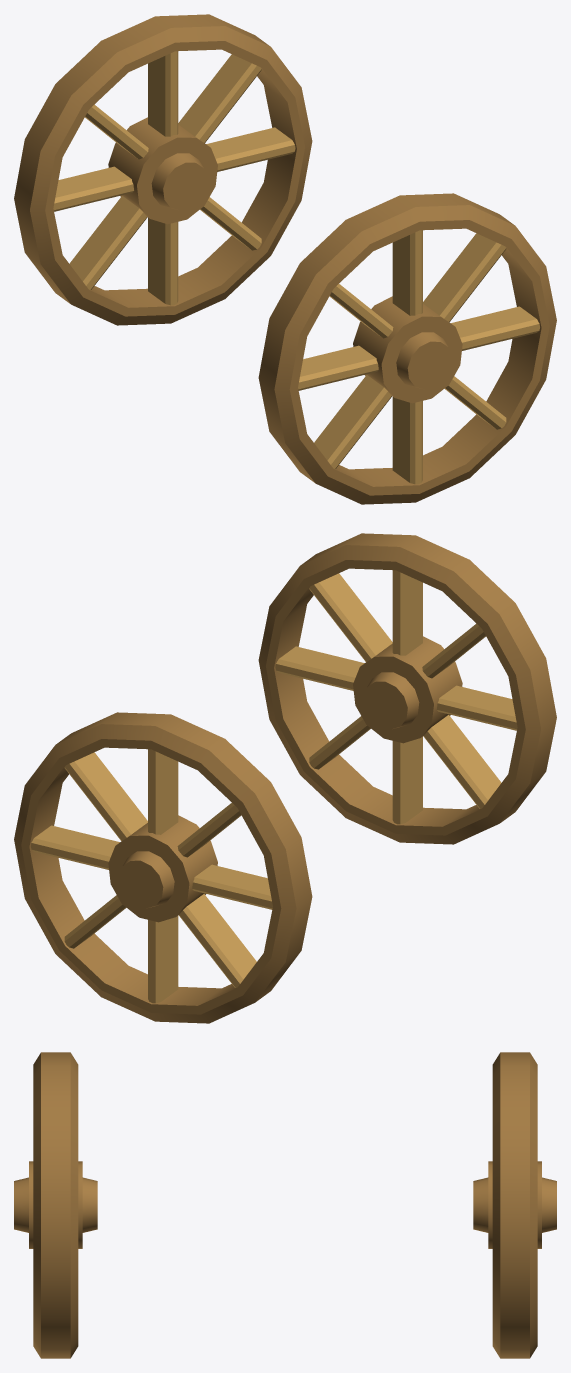
File: SM_Cannon_Wheels.fbx
The picture shows the model from 3 angles, top to bottom: view 1: azimuth 30°, elevation 25°; view 2: azimuth 150°, elevation 25°; view 3: azimuth 270°, elevation 25°; orthographic projection. The views are drawn at different scales.
Parts seen in each view (by area): view 1: SM_Cannon_Wheels; view 2: SM_Cannon_Wheels; view 3: SM_Cannon_Wheels.
Boxes of the visible parts, x1,y1,x2,y2 form: SM_Cannon_Wheels: [14, 14, 556, 504]; SM_Cannon_Wheels: [14, 533, 556, 1023]; SM_Cannon_Wheels: [14, 1052, 556, 1358].
Size of the model in its own units: 1.87 by 1.87 by 3.32.
